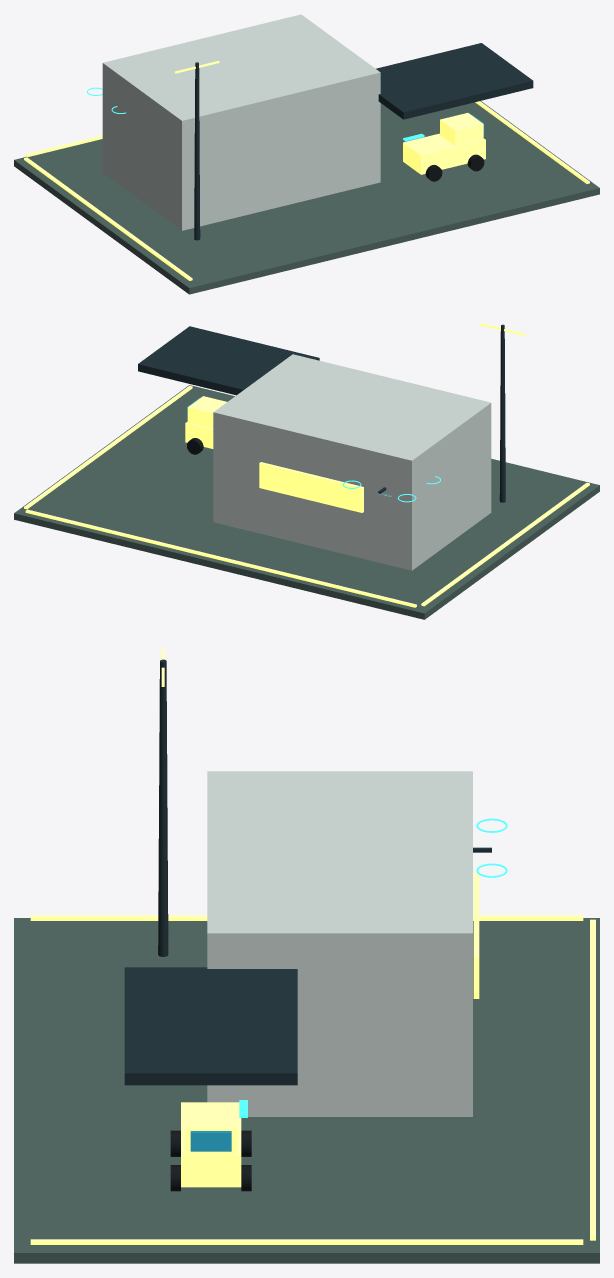
The model's file is outpost-module.glb.
3 renders of one model, top to bottom at view 1: azimuth 30°, elevation 25°; view 2: azimuth 150°, elevation 25°; view 3: azimuth 270°, elevation 25°, orthographic. The views are drawn at different scales.
Visible parts, largest first — view 1: rj-outpost-building-module-ready-room, rj-outpost-building-module-service-pad, rj-outpost-building-module-vehicle-bay-canopy, rj-outpost-building-module-field-rover-body, rj-outpost-building-module-field-rover-cab, rj-outpost-building-module-radio-mast, rj-outpost-building-module-side-glow-rail-left, rj-outpost-building-module-side-glow-rail-right; view 2: rj-outpost-building-module-ready-room, rj-outpost-building-module-service-pad, rj-outpost-building-module-vehicle-bay-canopy, rj-outpost-building-module-dispatch-window, rj-outpost-building-module-front-glow-rail, rj-outpost-building-module-radio-mast, rj-outpost-building-module-side-glow-rail-left, rj-outpost-building-module-side-glow-rail-right, rj-outpost-building-module-field-rover-cab, rj-outpost-building-module-field-rover-body; view 3: rj-outpost-building-module-service-pad, rj-outpost-building-module-ready-room, rj-outpost-building-module-vehicle-bay-canopy, rj-outpost-building-module-side-glow-rail-right, rj-outpost-building-module-field-rover-body, rj-outpost-building-module-radio-mast, rj-outpost-building-module-front-glow-rail, rj-outpost-building-module-field-rover-cab, rj-outpost-building-module-side-glow-rail-left, rj-outpost-building-module-field-rover-front-glass, rj-outpost-building-module-dispatch-window.
Boxes of the visible parts, x1,y1,x2,y2 form: rj-outpost-building-module-ready-room: [102, 14, 380, 230]; rj-outpost-building-module-service-pad: [14, 101, 599, 294]; rj-outpost-building-module-vehicle-bay-canopy: [376, 43, 533, 119]; rj-outpost-building-module-field-rover-body: [403, 133, 485, 174]; rj-outpost-building-module-field-rover-cab: [440, 113, 483, 145]; rj-outpost-building-module-radio-mast: [194, 62, 200, 240]; rj-outpost-building-module-side-glow-rail-left: [24, 157, 192, 280]; rj-outpost-building-module-side-glow-rail-right: [475, 101, 589, 183]; rj-outpost-building-module-ready-room: [213, 354, 491, 570]; rj-outpost-building-module-service-pad: [14, 385, 599, 619]; rj-outpost-building-module-vehicle-bay-canopy: [138, 326, 319, 395]; rj-outpost-building-module-dispatch-window: [259, 462, 363, 512]; rj-outpost-building-module-front-glow-rail: [25, 509, 416, 607]; rj-outpost-building-module-radio-mast: [499, 324, 505, 502]; rj-outpost-building-module-side-glow-rail-left: [421, 482, 589, 606]; rj-outpost-building-module-side-glow-rail-right: [24, 385, 192, 509]; rj-outpost-building-module-field-rover-cab: [187, 396, 226, 428]; rj-outpost-building-module-field-rover-body: [185, 422, 213, 448]; rj-outpost-building-module-service-pad: [14, 918, 599, 1263]; rj-outpost-building-module-ready-room: [207, 771, 472, 1116]; rj-outpost-building-module-vehicle-bay-canopy: [124, 967, 297, 1085]; rj-outpost-building-module-side-glow-rail-right: [30, 1239, 583, 1244]; rj-outpost-building-module-field-rover-body: [181, 1102, 241, 1187]; rj-outpost-building-module-radio-mast: [158, 659, 168, 956]; rj-outpost-building-module-front-glow-rail: [590, 919, 595, 1240]; rj-outpost-building-module-field-rover-cab: [185, 1106, 236, 1154]; rj-outpost-building-module-side-glow-rail-left: [30, 915, 583, 920]; rj-outpost-building-module-field-rover-front-glass: [190, 1131, 231, 1151]; rj-outpost-building-module-dispatch-window: [473, 873, 479, 998].
Size of the model in its own units: 10.75 by 4.65 by 7.95.
